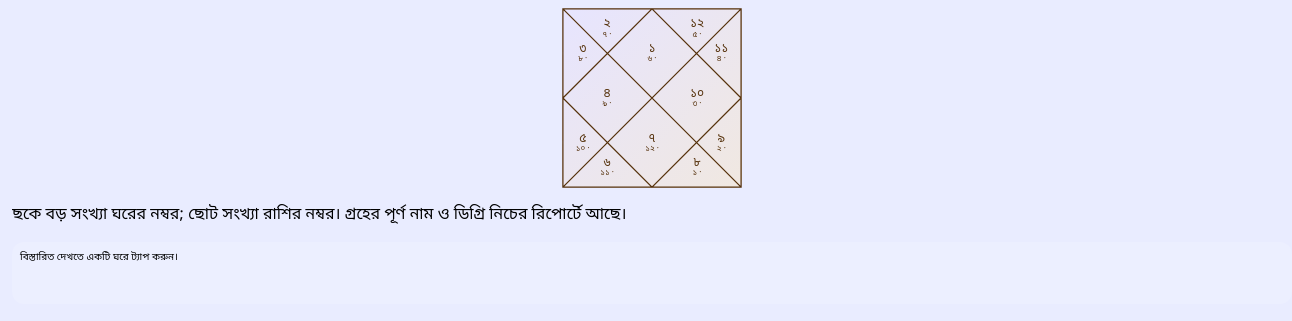
explains an empty house in bn
Click the button "৩ ৮ ·": {"x": 583, "y": 53} [566,36,600,70]
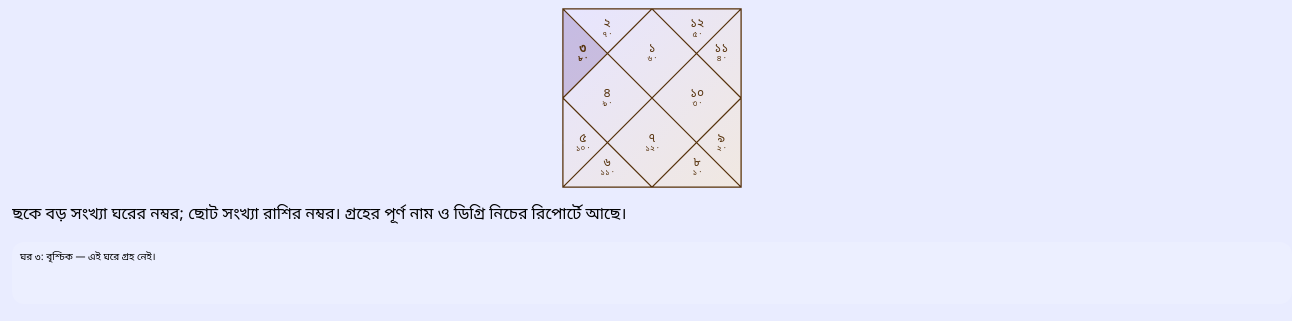
Check: the text "ঘর ৩: বৃশ্চিক — এই ঘরে গ্রহ নেই।" is shown, box [12,242,1291,304]
